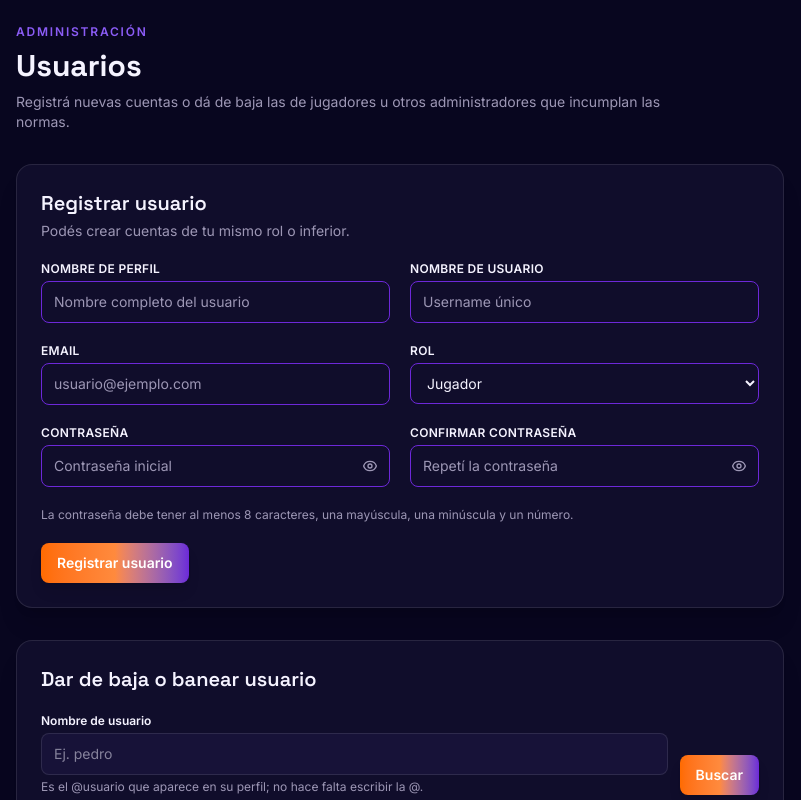
it: UsuariosPage - US 50 Eliminar cuenta de usuario › no distingue mayúsculas al elegir el username exacto
In the field labelled "Nombre de usuario": [354, 754] box [41,733,668,775], type "PEDRO"
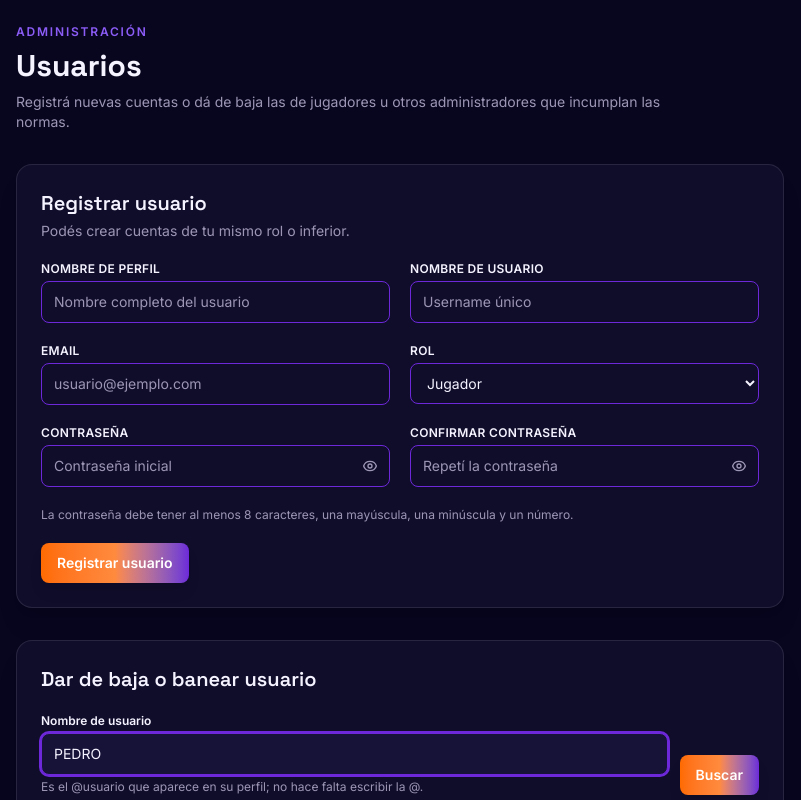
Click the button "Buscar": [719, 775] box [680,755,759,795]
(page scrolled)
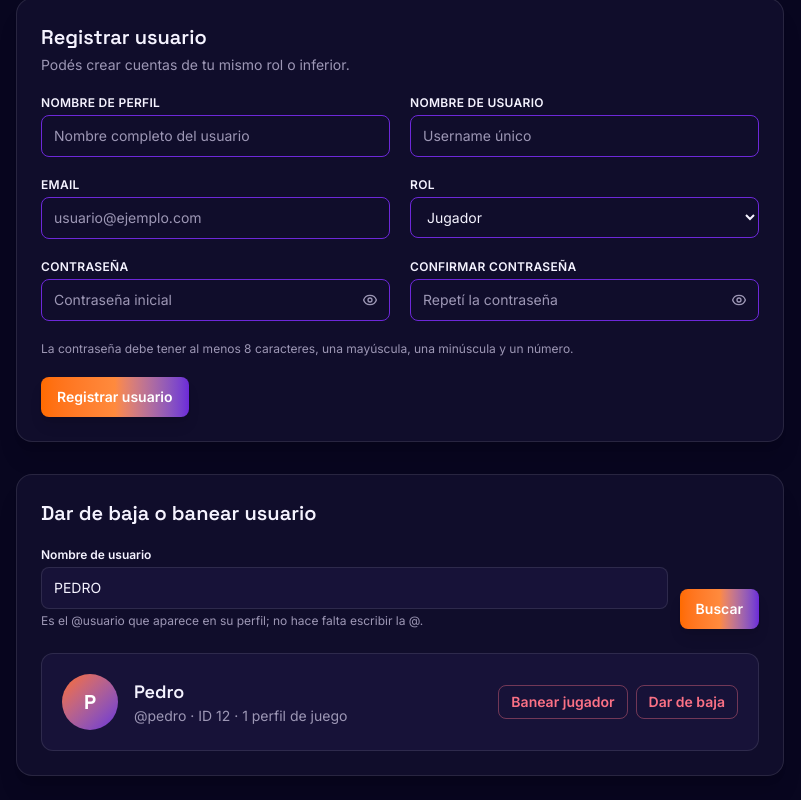
expect the text "@pedro · ID 12 · 1 perfil de juego" is shown: met, box [134,707,347,724]
